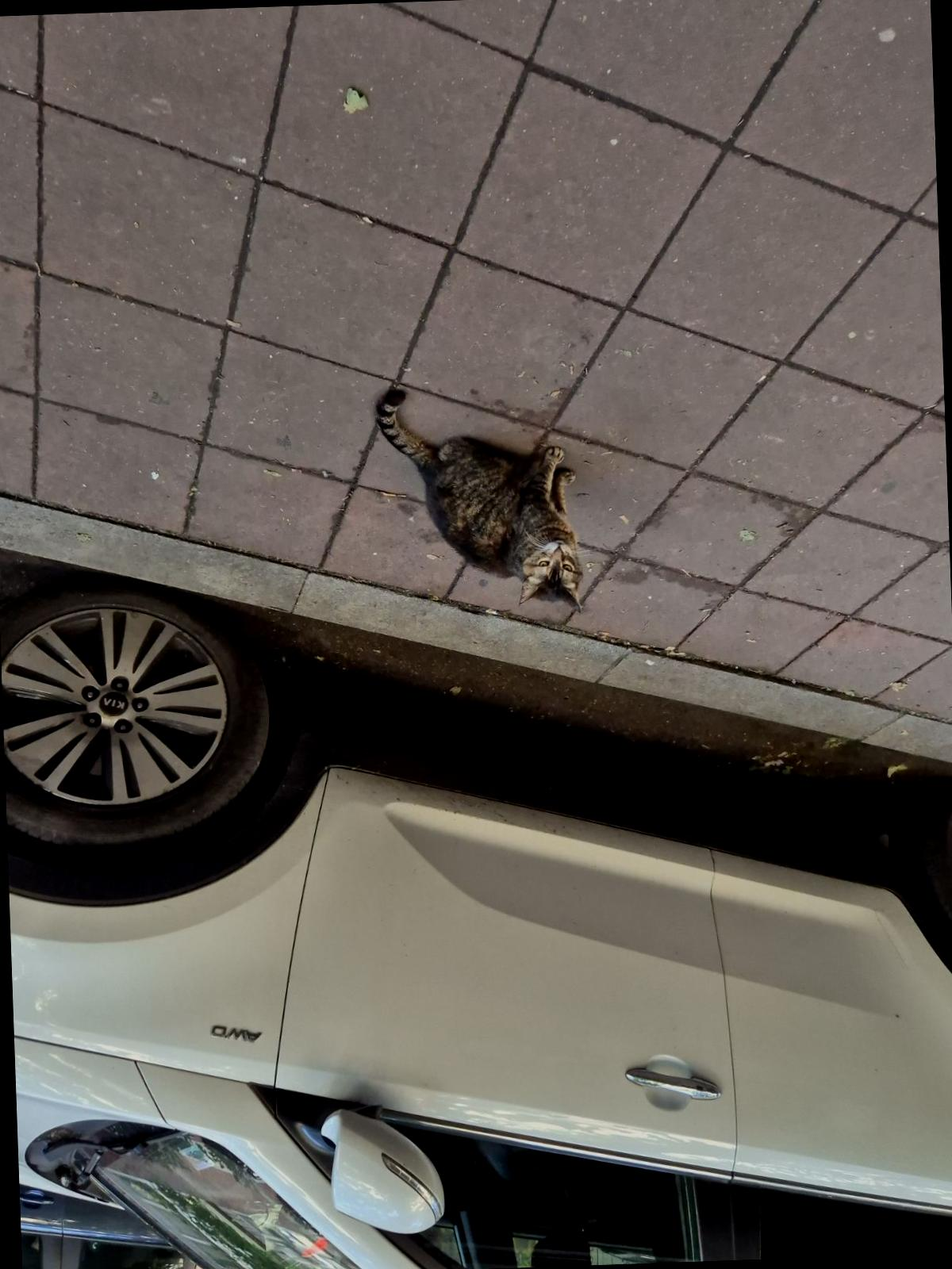macka: (375, 384, 583, 623)
